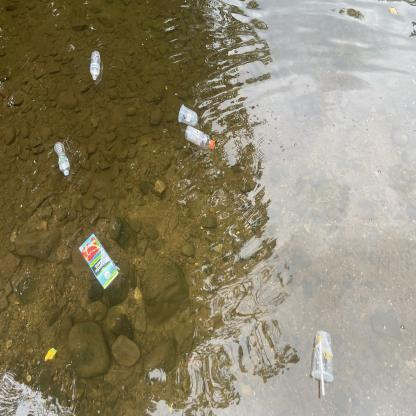trash: (74, 232, 126, 296), (308, 325, 337, 401), (183, 122, 218, 152), (51, 141, 74, 180), (86, 47, 107, 83), (173, 102, 201, 128)
